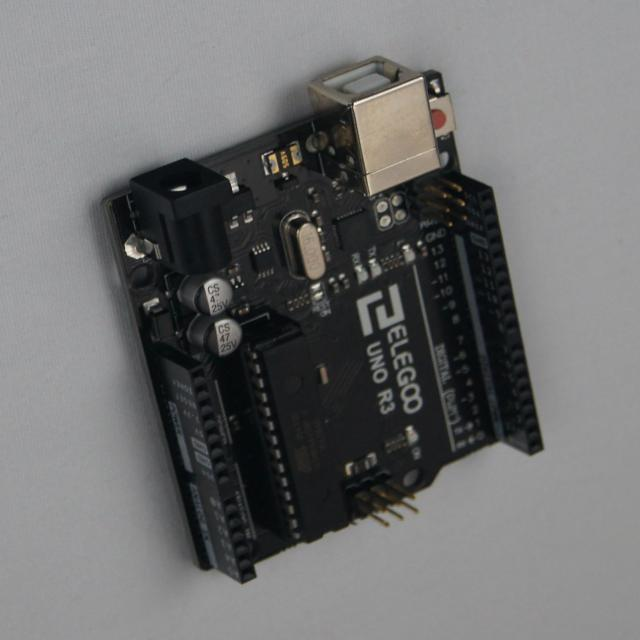Arduino Uno -Black-: (105, 58, 544, 583)
